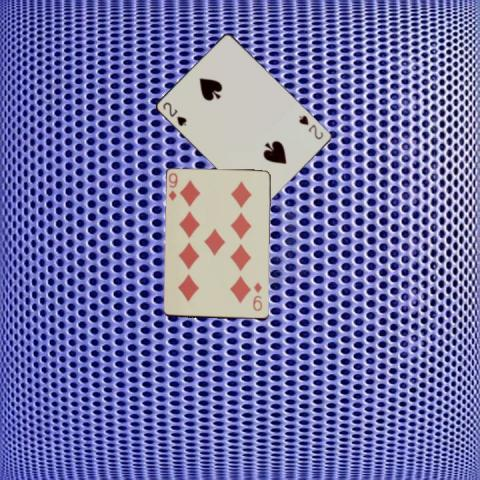2s: (159, 100, 188, 128), (296, 112, 324, 140)
9d: (166, 170, 179, 202), (251, 279, 263, 313)
